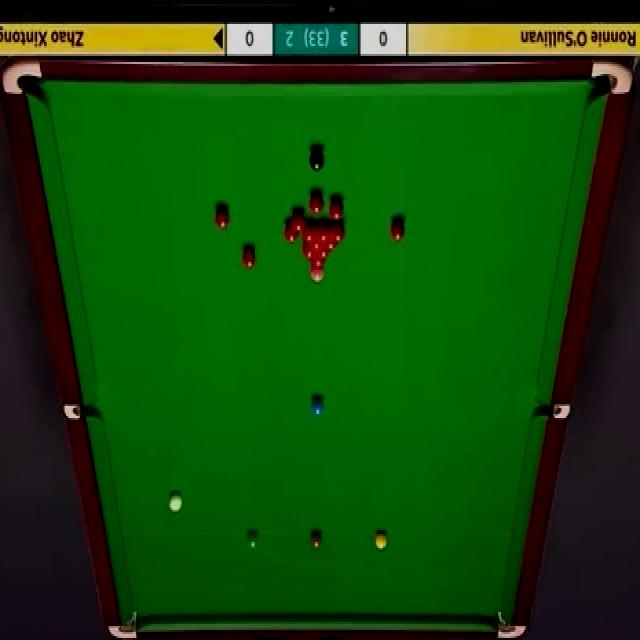black-ball: (308, 146, 324, 172)
blue-ball: (311, 397, 324, 416)
brown-ball: (310, 530, 323, 549)
green-ball: (247, 530, 260, 550)
pink-ball: (311, 272, 325, 284)
red-ball: (213, 204, 230, 232), (389, 218, 406, 243), (309, 191, 324, 215), (301, 220, 316, 243), (242, 245, 256, 269), (328, 200, 343, 222), (331, 222, 346, 244), (284, 220, 298, 243), (292, 210, 306, 232), (317, 222, 331, 244), (302, 244, 315, 260), (310, 260, 328, 270), (316, 250, 332, 260), (308, 243, 324, 251), (324, 242, 338, 251)
white-ball: (168, 490, 182, 515)
yellow-ball: (376, 531, 388, 549)
